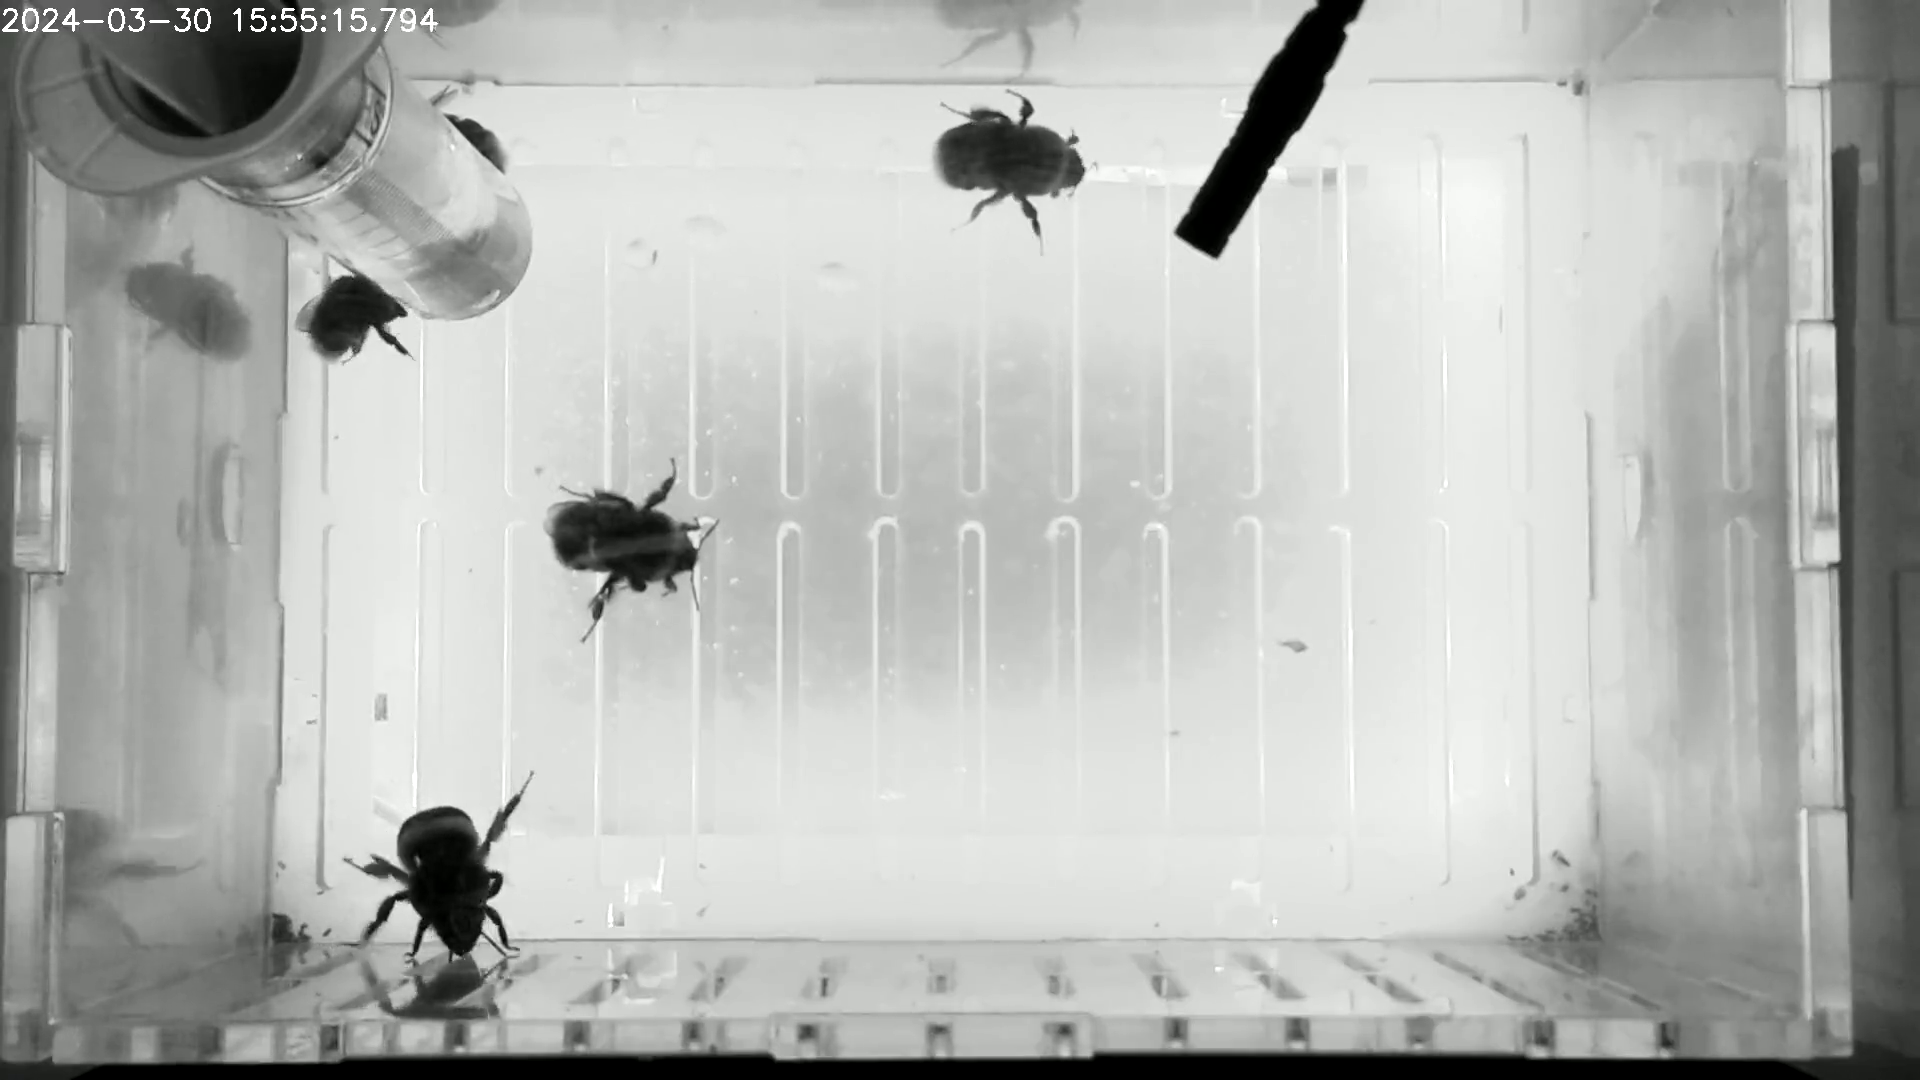bee: (338, 745, 545, 961), (533, 456, 731, 645), (911, 86, 1113, 264), (290, 252, 423, 376), (414, 69, 521, 193)
feeder: (243, 59, 538, 326)
